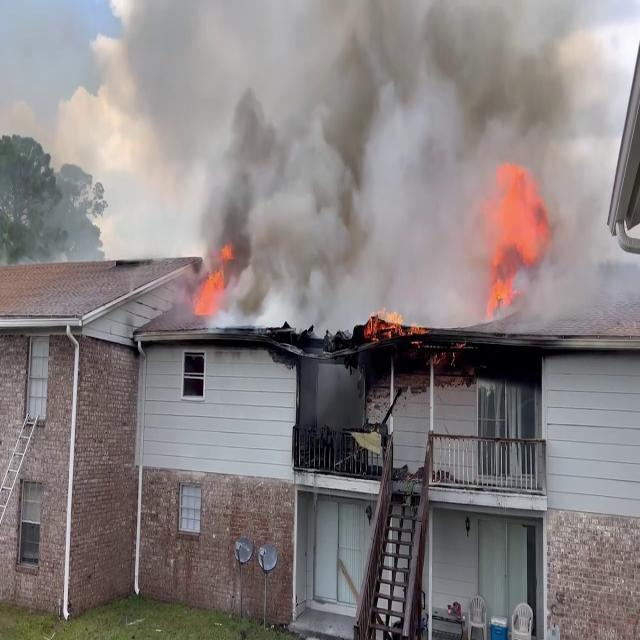Fire: (481, 159, 552, 309), (190, 257, 230, 319)
Smoke: (190, 0, 618, 319)
